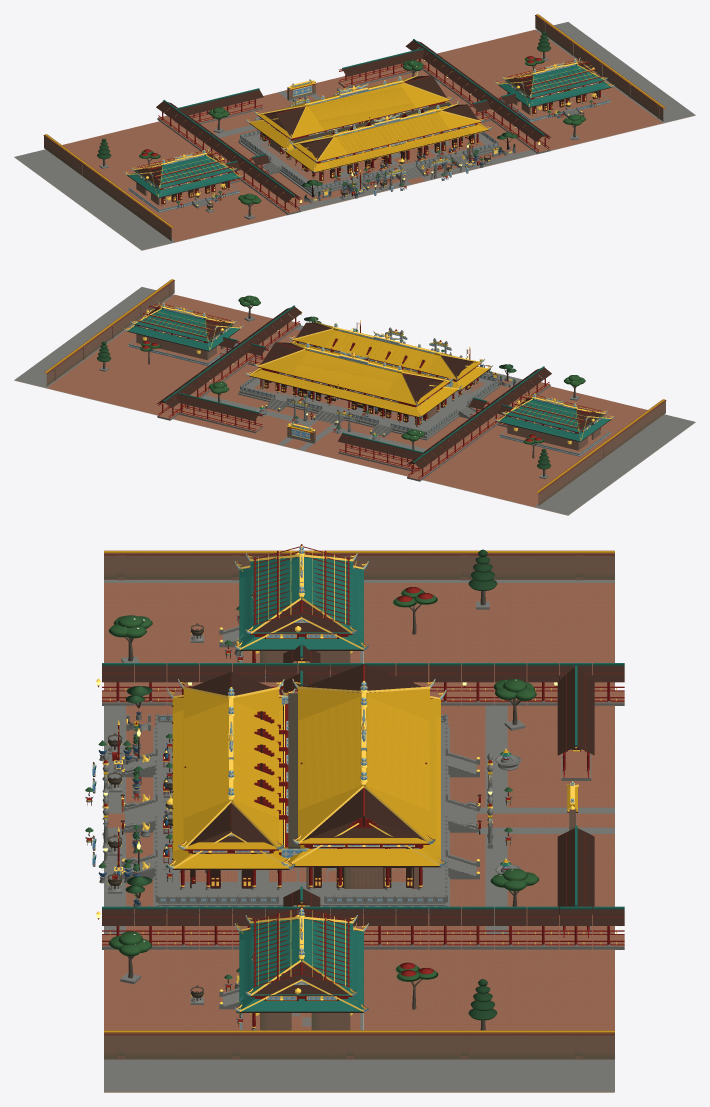
The model's file is T06_dien_can_chanh.glb.
The picture shows the model from 3 angles, top to bottom: view 1: azimuth 30°, elevation 25°; view 2: azimuth 150°, elevation 25°; view 3: azimuth 270°, elevation 25°; orthographic projection. The views are drawn at different scales.
Parts seen in each view (by area): view 1: T06_Ground_Walls, T06_DienCanChanh, T06_DienVoHien_Huu, T06_DienVanMinh_Ta, V08_NoiThat_RuiMe_DienVanMinh, V08_NoiThat_RuiMe_DienVoHien, T06_V2_Satellite_Seamless_Base, T06_BinhPhong_HauDien; view 2: T06_Ground_Walls, T06_DienCanChanh, T06_DienVoHien_Huu, T06_DienVanMinh_Ta, V08_NoiThat_RuiMe_DienVanMinh, V08_NoiThat_RuiMe_DienVoHien, T06_V2_Satellite_Seamless_Base, T06_BinhPhong_HauDien; view 3: T06_Ground_Walls, T06_DienCanChanh, T06_DienVanMinh_Ta, T06_DienVoHien_Huu, V08_NoiThat_RuiMe_DienVanMinh, V08_NoiThat_RuiMe_DienVoHien, T06_TL_NS_DienVanMinh_Ta_8, T06_TL_NS_DienVanMinh_Ta_20, T06_TL_NS_DienVanMinh_Ta_15, T06_TL_NS_DienVanMinh_Ta_17, T06_TL_NS_DienVanMinh_Ta_18, T06_TL_NS_DienVanMinh_Ta_7 (+21 smaller).
Part boxes in pixels (left/top/right/bottom): T06_Ground_Walls: left=14, top=14, right=695, bottom=250; T06_DienCanChanh: left=238, top=75, right=499, bottom=195; T06_DienVoHien_Huu: left=127, top=150, right=240, bottom=212; T06_DienVanMinh_Ta: left=497, top=61, right=611, bottom=121; V08_NoiThat_RuiMe_DienVanMinh: left=508, top=59, right=601, bottom=111; V08_NoiThat_RuiMe_DienVoHien: left=137, top=150, right=230, bottom=202; T06_V2_Satellite_Seamless_Base: left=14, top=115, right=695, bottom=250; T06_BinhPhong_HauDien: left=287, top=80, right=315, bottom=100; T06_Ground_Walls: left=14, top=279, right=695, bottom=515; T06_DienCanChanh: left=238, top=321, right=500, bottom=440; T06_DienVoHien_Huu: left=498, top=394, right=611, bottom=456; T06_DienVanMinh_Ta: left=127, top=305, right=240, bottom=365; V08_NoiThat_RuiMe_DienVanMinh: left=137, top=303, right=230, bottom=346; V08_NoiThat_RuiMe_DienVoHien: left=508, top=394, right=601, bottom=437; T06_V2_Satellite_Seamless_Base: left=14, top=380, right=695, bottom=515; T06_BinhPhong_HauDien: left=287, top=423, right=315, bottom=443; T06_Ground_Walls: left=104, top=550, right=614, bottom=1091; T06_DienCanChanh: left=121, top=664, right=479, bottom=913; T06_DienVanMinh_Ta: left=219, top=915, right=363, bottom=1030; T06_DienVoHien_Huu: left=219, top=552, right=363, bottom=679; V08_NoiThat_RuiMe_DienVanMinh: left=253, top=906, right=350, bottom=1026; V08_NoiThat_RuiMe_DienVoHien: left=253, top=544, right=350, bottom=662; T06_TL_NS_DienVanMinh_Ta_8: left=200, top=906, right=232, bottom=949; T06_TL_NS_DienVanMinh_Ta_20: left=592, top=906, right=624, bottom=949; T06_TL_NS_DienVanMinh_Ta_15: left=429, top=906, right=461, bottom=949; T06_TL_NS_DienVanMinh_Ta_17: left=494, top=906, right=526, bottom=949; T06_TL_NS_DienVanMinh_Ta_18: left=527, top=906, right=559, bottom=949; T06_TL_NS_DienVanMinh_Ta_7: left=167, top=906, right=199, bottom=949.
Size of the model in its own units: 140 by 12.18 by 58.96.
Materials: 21 (3 with a texture image).
